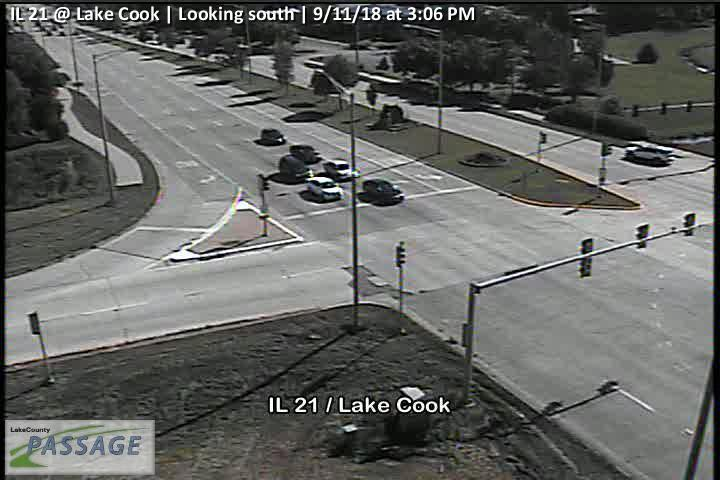Sedan: (361, 178, 405, 205), (303, 174, 343, 201), (278, 153, 312, 181), (320, 158, 353, 180), (289, 143, 324, 163), (261, 127, 285, 144)
